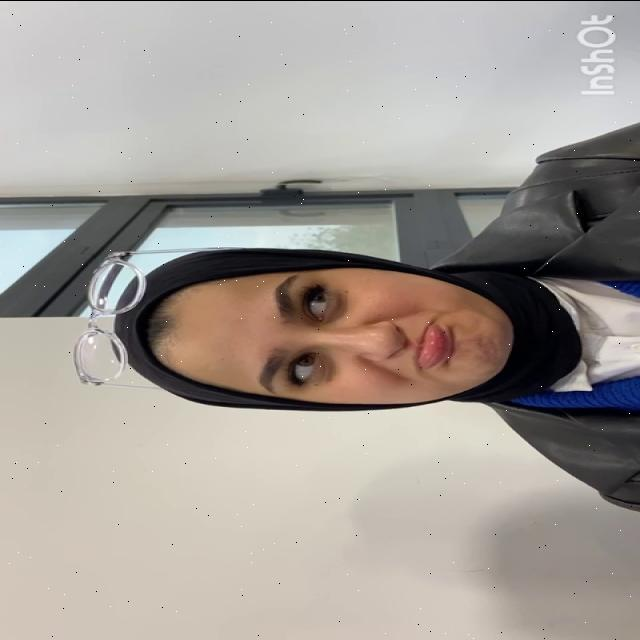sad: (145, 262, 519, 410)
